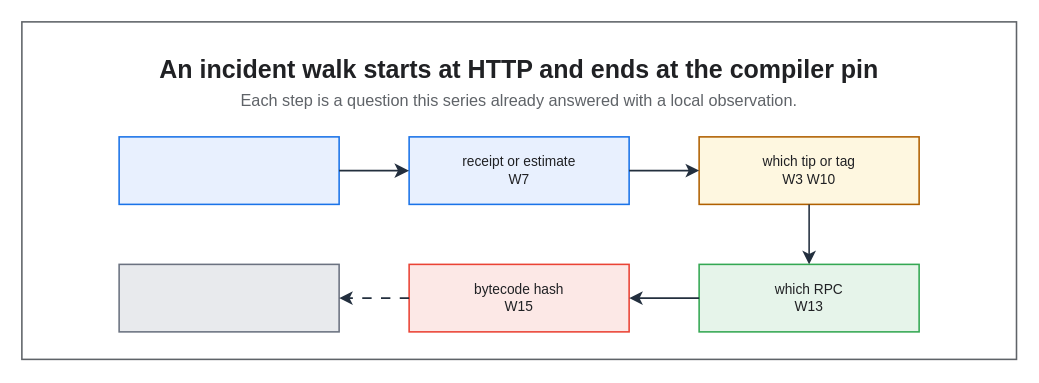
The diagram is 1039 pixels wide and 383 high, and some of its shapes have lost their labels. Each missing label, with the box of its shape:
HTTP / RPC error W7 W8: (118, 136, 339, 205)
which key W11: (118, 263, 339, 332)
